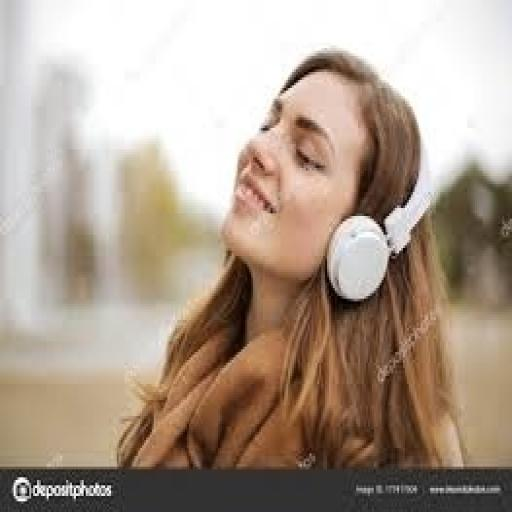listening_to_music: (113, 45, 469, 472)
